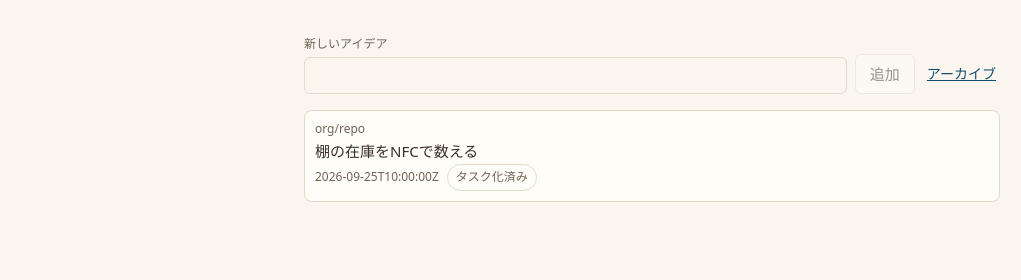
Test: Ideas › archives a row at once from its menu, posting once, then focuses the archive link
Right-click the link "org/repo 棚の在庫をNFCで数える 2026-09-25T10:00:00Z タスク化済み" at (340, 128), box 304,110 -> 1000,202
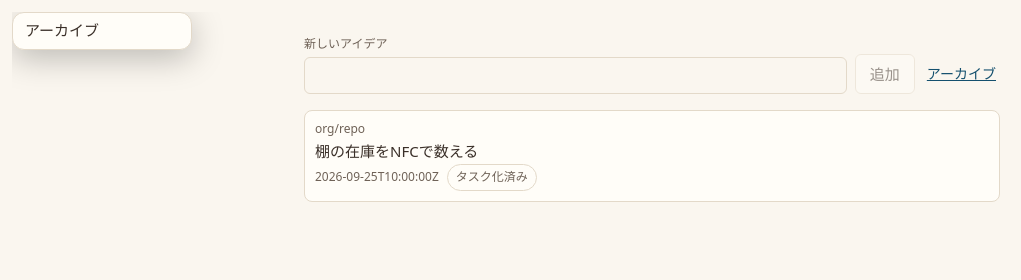
Click the menu item "アーカイブ" at (102, 31), box 13,13 -> 191,49
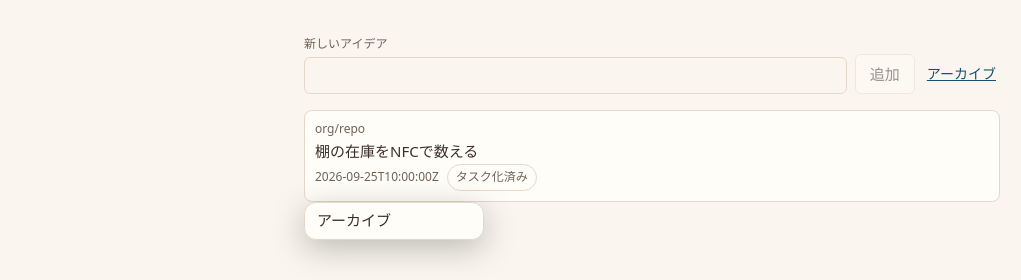
Expected: the menu item "アーカイブ" is disabled
Click the menu item "アーカイブ" at (394, 221), box 305,203 -> 483,239
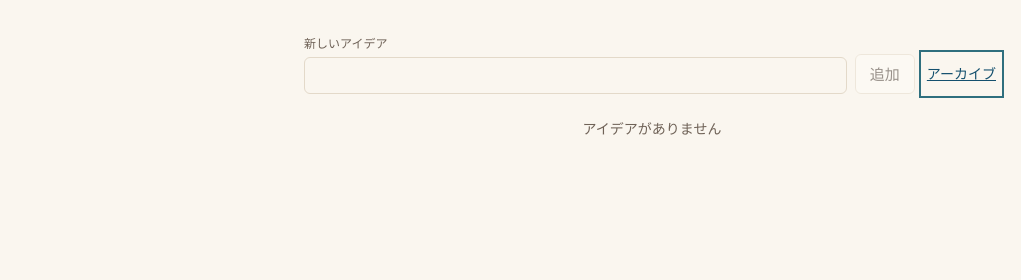
Expected: the link "棚の在庫" is gone
Expected: the menu is gone
Expected: the text "アイデアがありません" is shown, 582,119 -> 721,138
